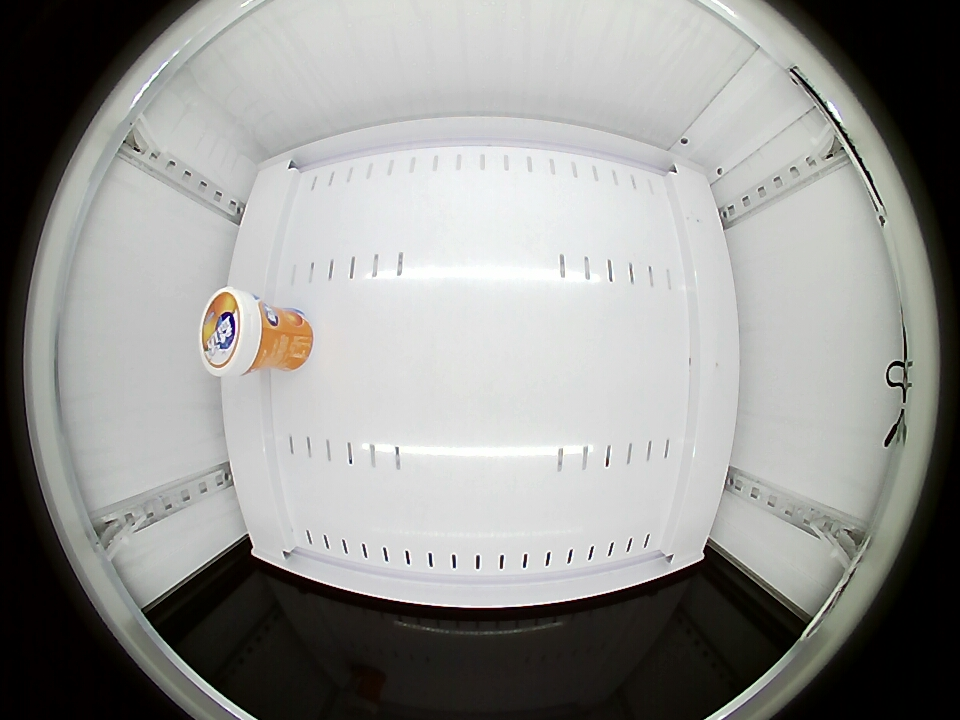yida: (200, 287, 272, 378)
